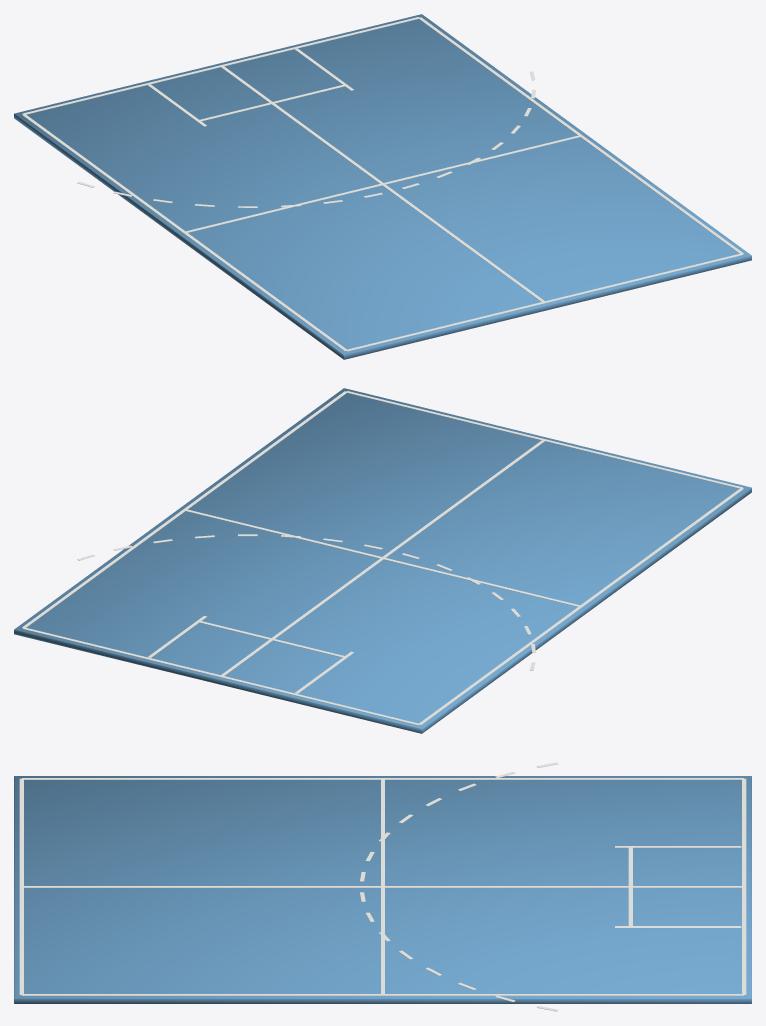
The model's file is Court.fbx.
3 views of the same model, one above another, from view 1: azimuth 30°, elevation 25°; view 2: azimuth 150°, elevation 25°; view 3: azimuth 270°, elevation 25° (orthographic). The views are drawn at different scales.
Visible parts, largest first — view 1: LOD0; view 2: LOD0; view 3: LOD0.
Part boxes in pixels (bbox=[...]): LOD0: bbox=[14, 14, 751, 359]; LOD0: bbox=[14, 388, 751, 733]; LOD0: bbox=[14, 762, 751, 1011].
Size of what is drawn, in the model's own units: 1118 by 12.7 by 1400.
